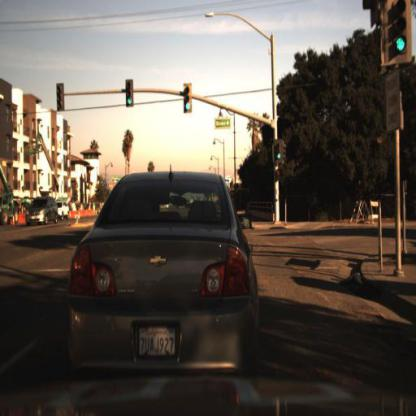car: (61, 157, 264, 407), (24, 193, 58, 227), (55, 196, 71, 225), (57, 201, 72, 224)
trafficLight: (181, 79, 193, 116), (53, 82, 65, 113), (123, 75, 134, 108)
trafficLight-Green: (381, 1, 416, 77), (275, 132, 288, 169)
